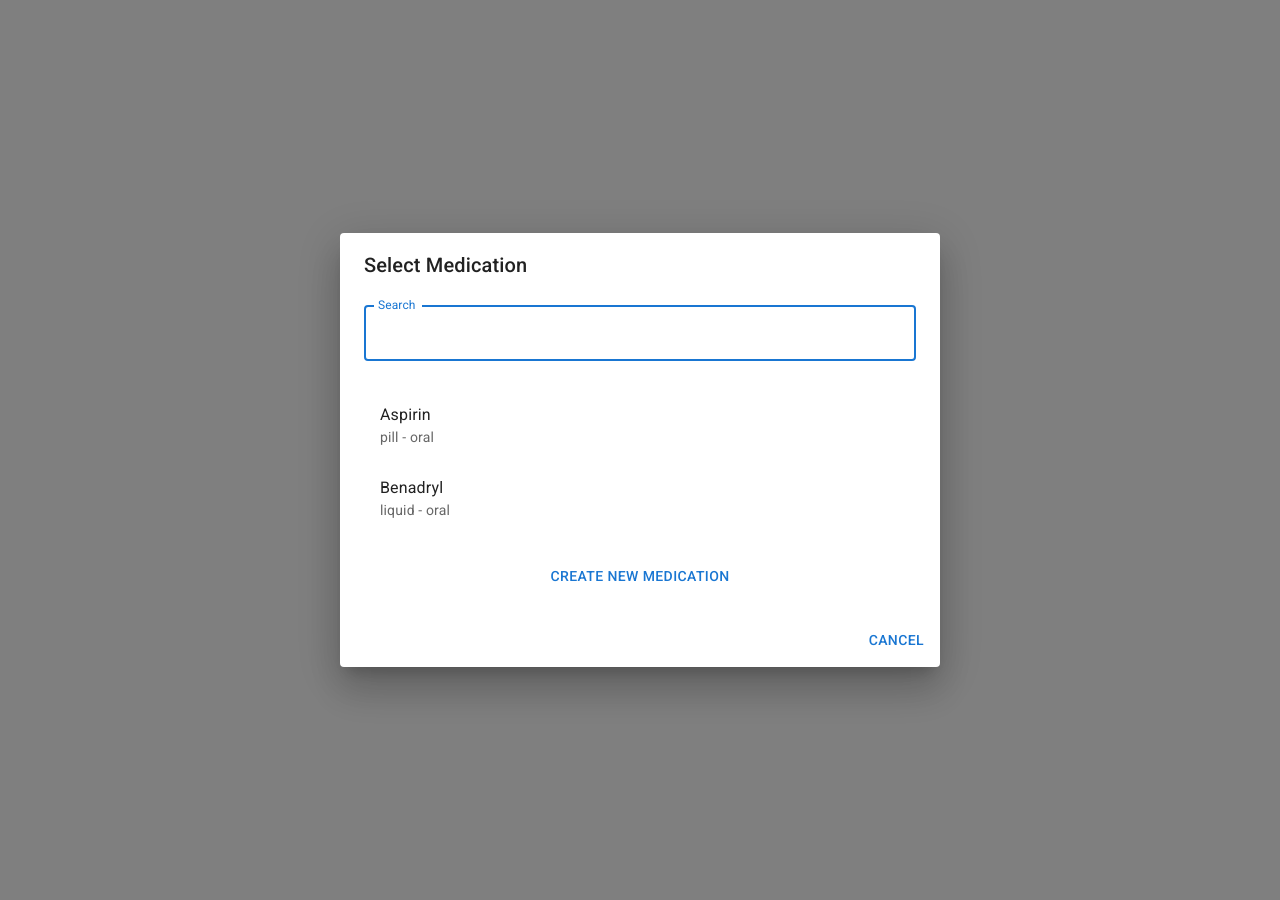
Test: MedicationCatalogDialog › should cancel creation and return to list
Click the button "Create New Medication" at (640, 576), box [542,558,738,594]
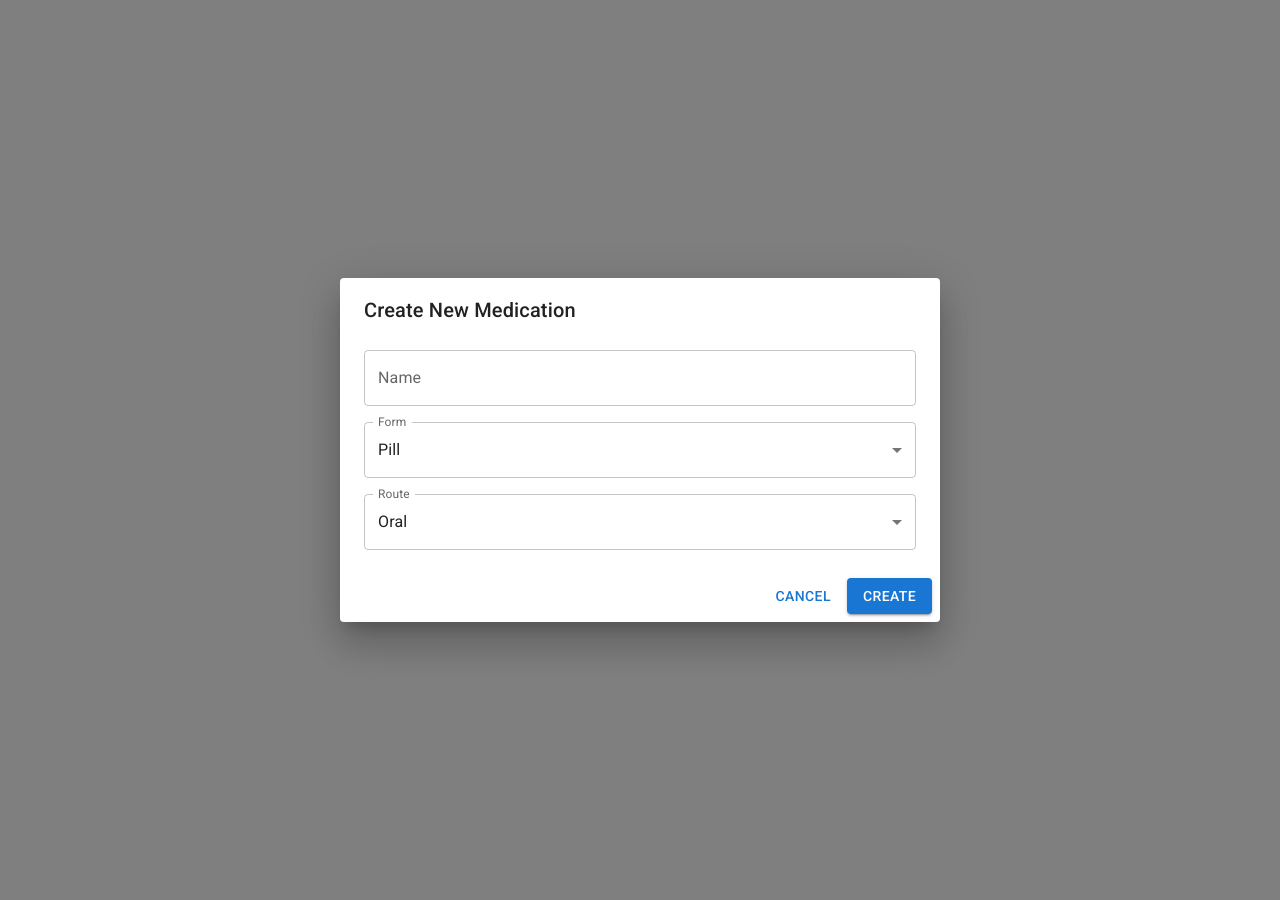
Result: the heading "Create New Medication" is shown at [364,298,576,322]
Click the button "Cancel" at (803, 596), box [768,578,839,614]
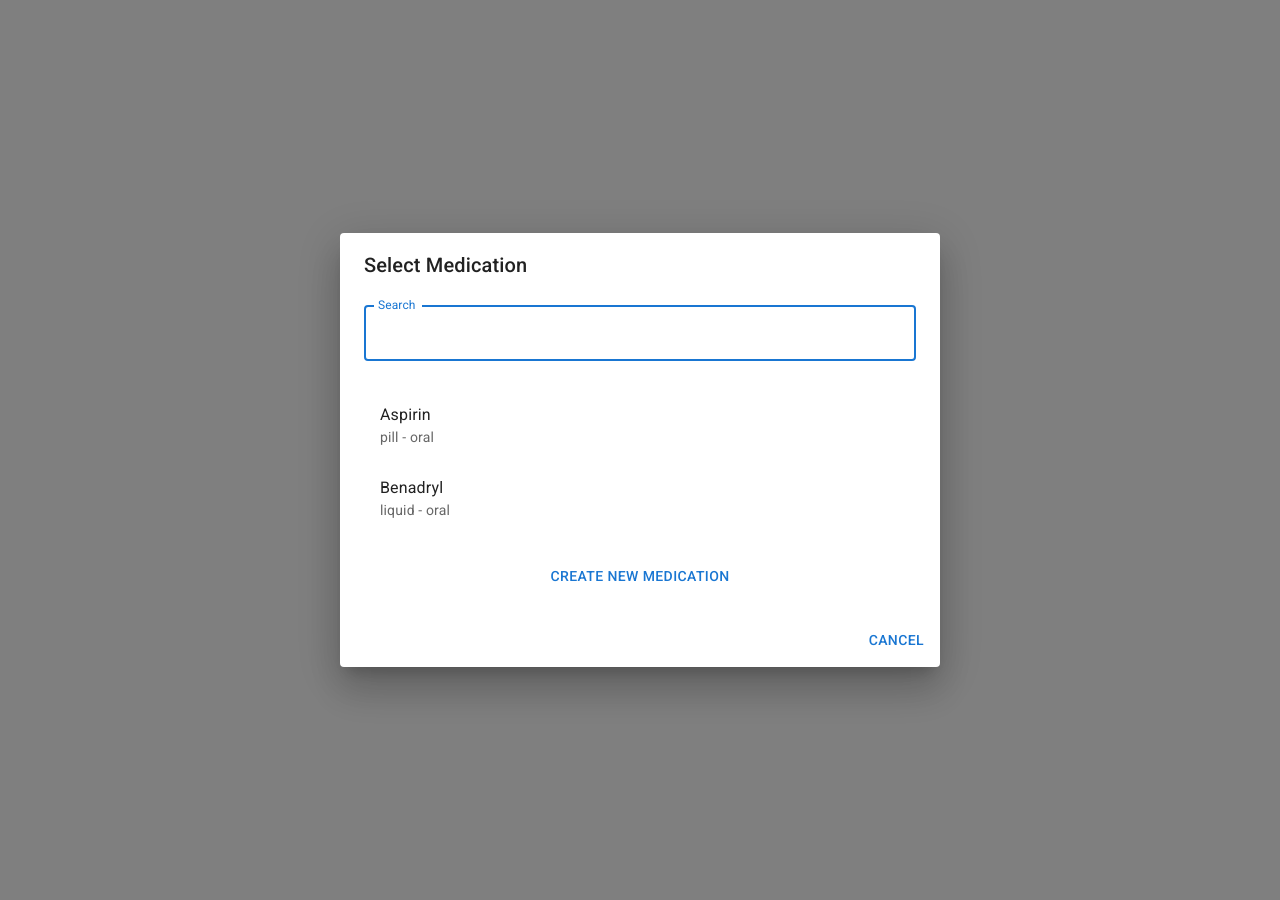
Result: the heading "Select Medication" is shown at [364,254,527,278]
